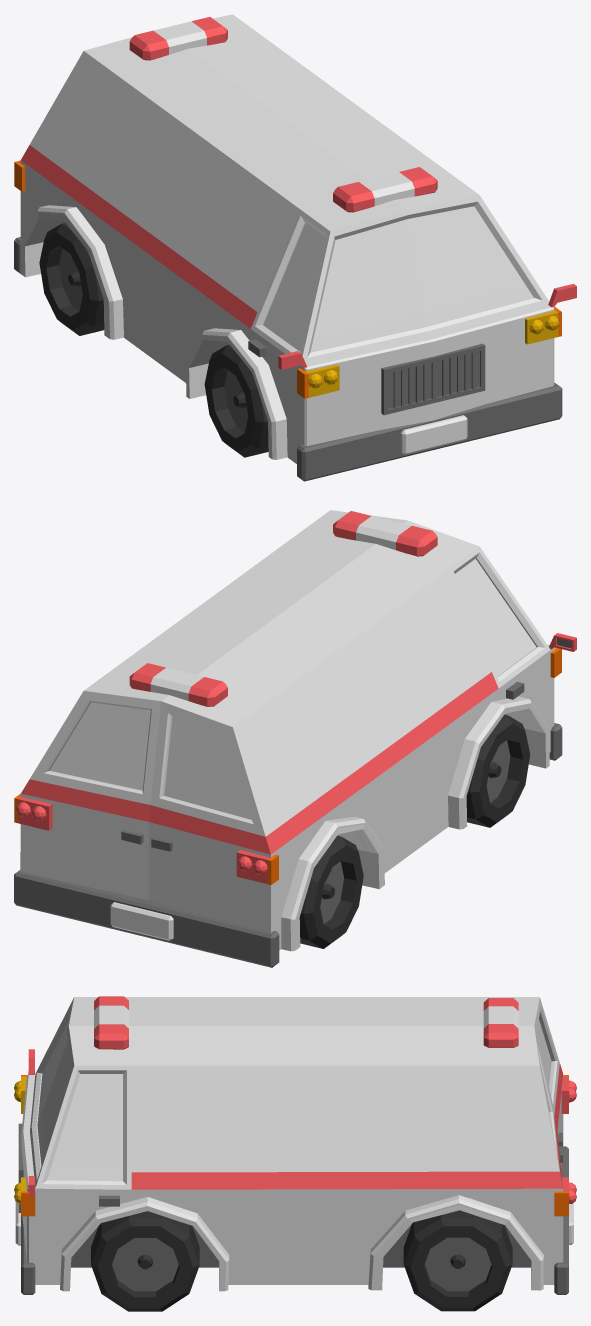
File: Car I.fbx
3 views of the same model, one above another, from view 1: azimuth 30°, elevation 25°; view 2: azimuth 150°, elevation 25°; view 3: azimuth 270°, elevation 25° (orthographic). The views are drawn at different scales.
Parts seen in each view (by area): view 1: Car I; view 2: Car I; view 3: Car I.
Part boxes in pixels (x1=…): Car I: x1=14, y1=14, x2=576, y2=481; Car I: x1=14, y1=510, x2=576, y2=967; Car I: x1=14, y1=996, x2=576, y2=1311.
Size of the model in its own units: 205 by 166 by 360.
